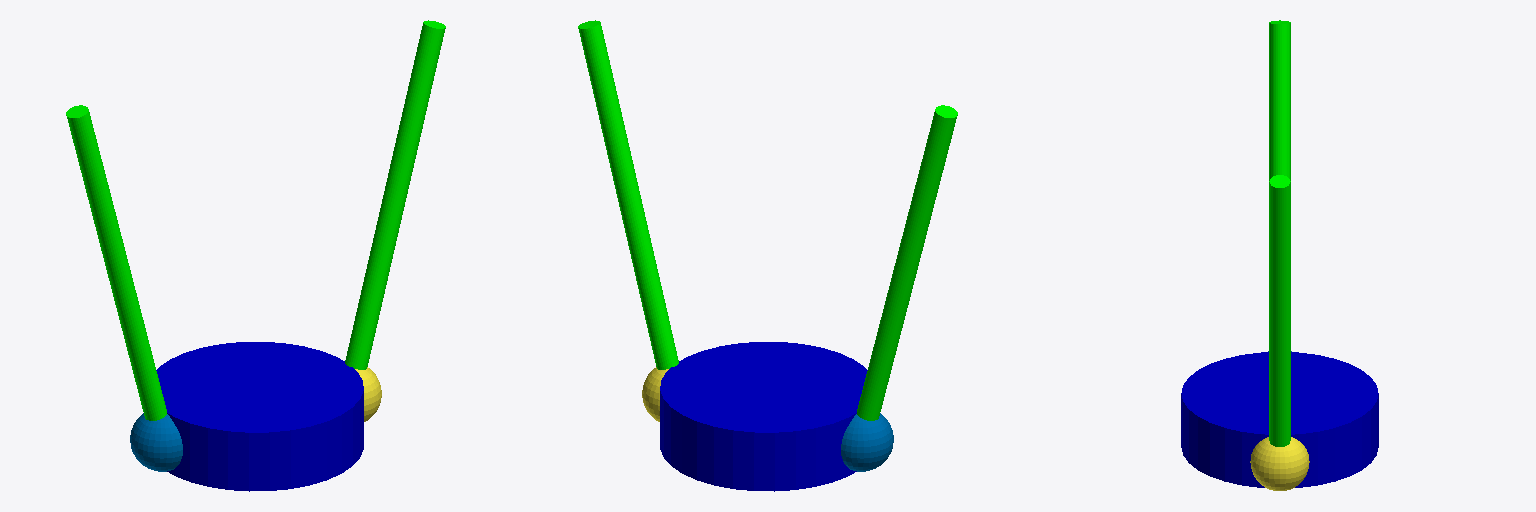
URDF robot description (gripper_2f_1j):
<?xml version='1.0' encoding='UTF-8'?>
<robot name="gripper_2f_1j">
  <link name="palm">
    <inertial>
      <origin xyz="0.0 0.0 0.0" rpy="0.0 -0.0 0.0"/>
      <mass value="1.0"/>
      <inertia ixx="1.0" ixy="0.0" ixz="0.0" iyy="1.0" iyz="0.0" izz="1.0"/>
    </inertial>
    <visual>
      <geometry>
        <cylinder radius="0.05" length="0.03"/>
      </geometry>
      <material name="blue"/>
      <origin xyz="0.0 0.0 0.0" rpy="0.0 -0.0 0.0"/>
    </visual>
    <collision>
      <geometry>
        <cylinder radius="0.05" length="0.03"/>
      </geometry>
      <origin xyz="0.0 0.0 0.0" rpy="0.0 0.0 0.0"/>
    </collision>
  </link>
  <link name="f11">
    <inertial>
      <origin xyz="0.0 0.0 0.0" rpy="0.0 -0.0 0.0"/>
      <mass value="1.0"/>
      <inertia ixx="1.0" ixy="0.0" ixz="0.0" iyy="1.0" iyz="0.0" izz="1.0"/>
    </inertial>
    <visual>
      <geometry>
        <cylinder radius="0.005348789324389925" length="0.18357451849558315"/>
      </geometry>
      <material name="green"/>
      <origin xyz="0.0 0.0 0.09178725924779157" rpy="0.0 -0.0 0.0"/>
    </visual>
    <collision>
      <geometry>
        <cylinder radius="0.005348789324389925" length="0.18357451849558315"/>
      </geometry>
      <origin xyz="0.0 0.0 0.05" rpy="0.0 0.0 0.0"/>
    </collision>
  </link>
  <link name="f21">
    <inertial>
      <origin xyz="0.0 0.0 0.0" rpy="0.0 -0.0 0.0"/>
      <mass value="1.0"/>
      <inertia ixx="1.0" ixy="0.0" ixz="0.0" iyy="1.0" iyz="0.0" izz="1.0"/>
    </inertial>
    <visual>
      <geometry>
        <cylinder radius="0.005348789324389925" length="0.18357451849558315"/>
      </geometry>
      <material name="green"/>
      <origin xyz="0.0 0.0 0.09178725924779157" rpy="0.0 -0.0 0.0"/>
    </visual>
    <collision>
      <geometry>
        <cylinder radius="0.005348789324389925" length="0.18357451849558315"/>
      </geometry>
      <origin xyz="0.0 0.0 0.05" rpy="0.0 0.0 0.0"/>
    </collision>
  </link>
  <link name="f11_base">
    <inertial>
      <origin xyz="0.0 0.0 0.0" rpy="0.0 -0.0 0.0"/>
      <mass value="1.0"/>
      <inertia ixx="1.0" ixy="0.0" ixz="0.0" iyy="1.0" iyz="0.0" izz="1.0"/>
    </inertial>
    <visual>
      <geometry>
        <sphere radius="0.015"/>
      </geometry>
      <origin xyz="0.0 0.0 0.0" rpy="0.0 -0.0 0.0"/>
    </visual>
  </link>
  <link name="f21_base">
    <inertial>
      <origin xyz="0.0 0.0 0.0" rpy="0.0 -0.0 0.0"/>
      <mass value="1.0"/>
      <inertia ixx="1.0" ixy="0.0" ixz="0.0" iyy="1.0" iyz="0.0" izz="1.0"/>
    </inertial>
    <visual>
      <geometry>
        <sphere radius="0.015"/>
      </geometry>
      <origin xyz="0.0 0.0 0.0" rpy="0.0 -0.0 0.0"/>
    </visual>
  </link>
  <joint name="f11_joint" type="revolute">
    <dynamics damping="100.0" friction="1.0"/>
    <limit effort="30.0" velocity="2.0" lower="-0.6" upper="0.25"/>
    <parent link="f11_base"/>
    <child link="f11"/>
    <axis xyz="0. 1. 0."/>
    <origin xyz="0.0 0.0 0.0" rpy="0.0 0.25 0.0"/>
  </joint>
  <joint name="f21_joint" type="revolute">
    <dynamics damping="100.0" friction="1.0"/>
    <limit effort="30.0" velocity="2.0" lower="-0.6" upper="0.25"/>
    <parent link="f21_base"/>
    <child link="f21"/>
    <axis xyz=" 0. -1.  0."/>
    <origin xyz="0.0 0.0 0.0" rpy="0.0 -0.25 0.0"/>
  </joint>
  <joint name="f11_base_joint" type="fixed">
    <parent link="palm"/>
    <child link="f11_base"/>
    <axis xyz="1. 0. 0."/>
    <origin xyz="0.05 0.0 0.0" rpy="0.0 0.0 0.0"/>
  </joint>
  <joint name="f21_base_joint" type="fixed">
    <parent link="palm"/>
    <child link="f21_base"/>
    <axis xyz="1. 0. 0."/>
    <origin xyz="-0.05 -0.0 0.0" rpy="0.0 0.0 0.0"/>
  </joint>
  <material name="blue">
    <color rgba="0.  0.  0.8 1. "/>
  </material>
  <material name="green">
    <color rgba="0. 1. 0. 1."/>
  </material>
</robot>

--- Render facts (derived) ---
The picture shows the robot from 3 angles, left to right: view 1: azimuth 30°, elevation 25°; view 2: azimuth 150°, elevation 25°; view 3: azimuth 270°, elevation 25°; orthographic projection.
Robot: gripper_2f_1j — 5 links, 4 joints (2 revolute, 2 fixed); root link palm; default pose: every joint at zero.
Visible links, largest first — view 1: palm, f11, f21, f21_base, f11_base; view 2: palm, f11, f21, f21_base, f11_base; view 3: palm, f11, f21, f11_base.
Boxes of the visible links, x1,y1,x2,y2 form: palm: [156, 342, 363, 491]; f11: [345, 20, 445, 369]; f21: [66, 105, 166, 420]; f21_base: [130, 413, 182, 471]; f11_base: [355, 367, 381, 421]; palm: [660, 342, 867, 491]; f11: [578, 20, 678, 369]; f21: [857, 105, 957, 420]; f21_base: [841, 413, 893, 471]; f11_base: [642, 367, 668, 421]; palm: [1181, 352, 1378, 487]; f11: [1269, 175, 1290, 446]; f21: [1269, 20, 1290, 180]; f11_base: [1250, 437, 1309, 490].
Bounding box of the posed robot: 0.2012 × 0.1 × 0.1942 m (x, y, z).
Geometry: primitives only (box / cylinder / sphere), no mesh files.